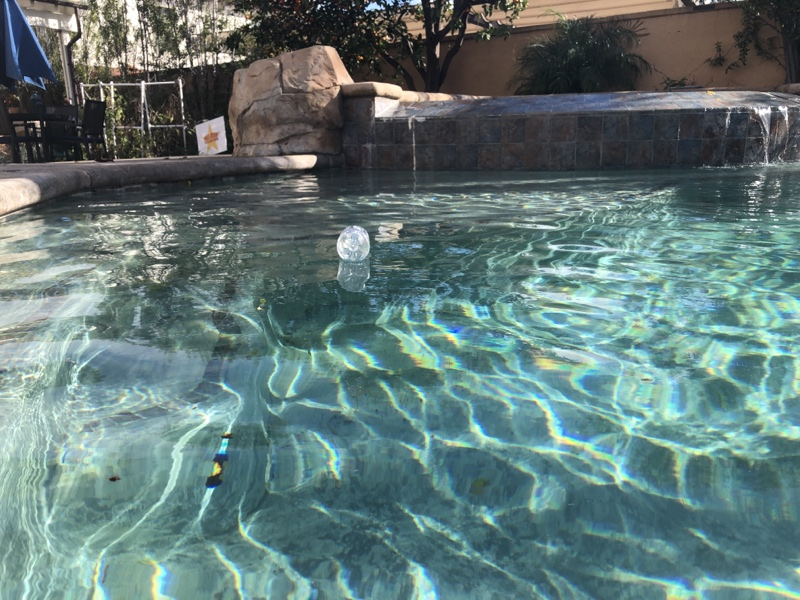Plastic Bottle: (336, 223, 369, 266)
